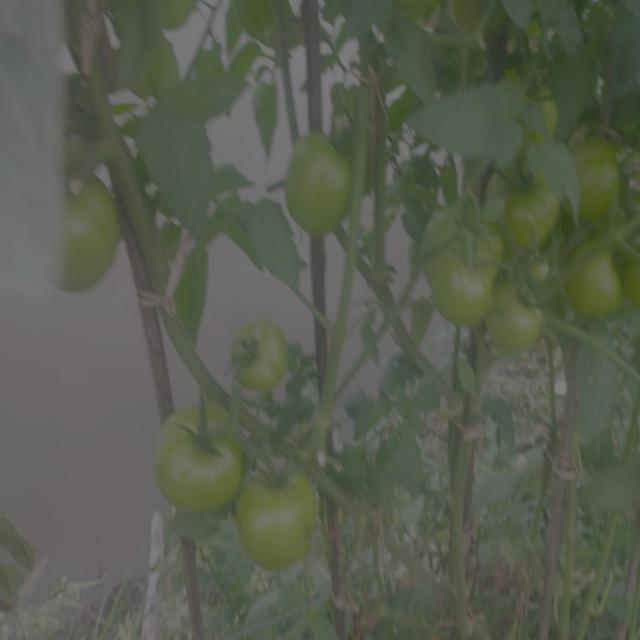tomato: (154, 417, 244, 521), (282, 139, 361, 241), (423, 199, 490, 316), (54, 188, 120, 290), (566, 140, 635, 234), (250, 474, 317, 567), (571, 238, 640, 319), (486, 283, 555, 362), (499, 169, 565, 250), (233, 334, 293, 384), (519, 78, 562, 144), (516, 244, 558, 290)
